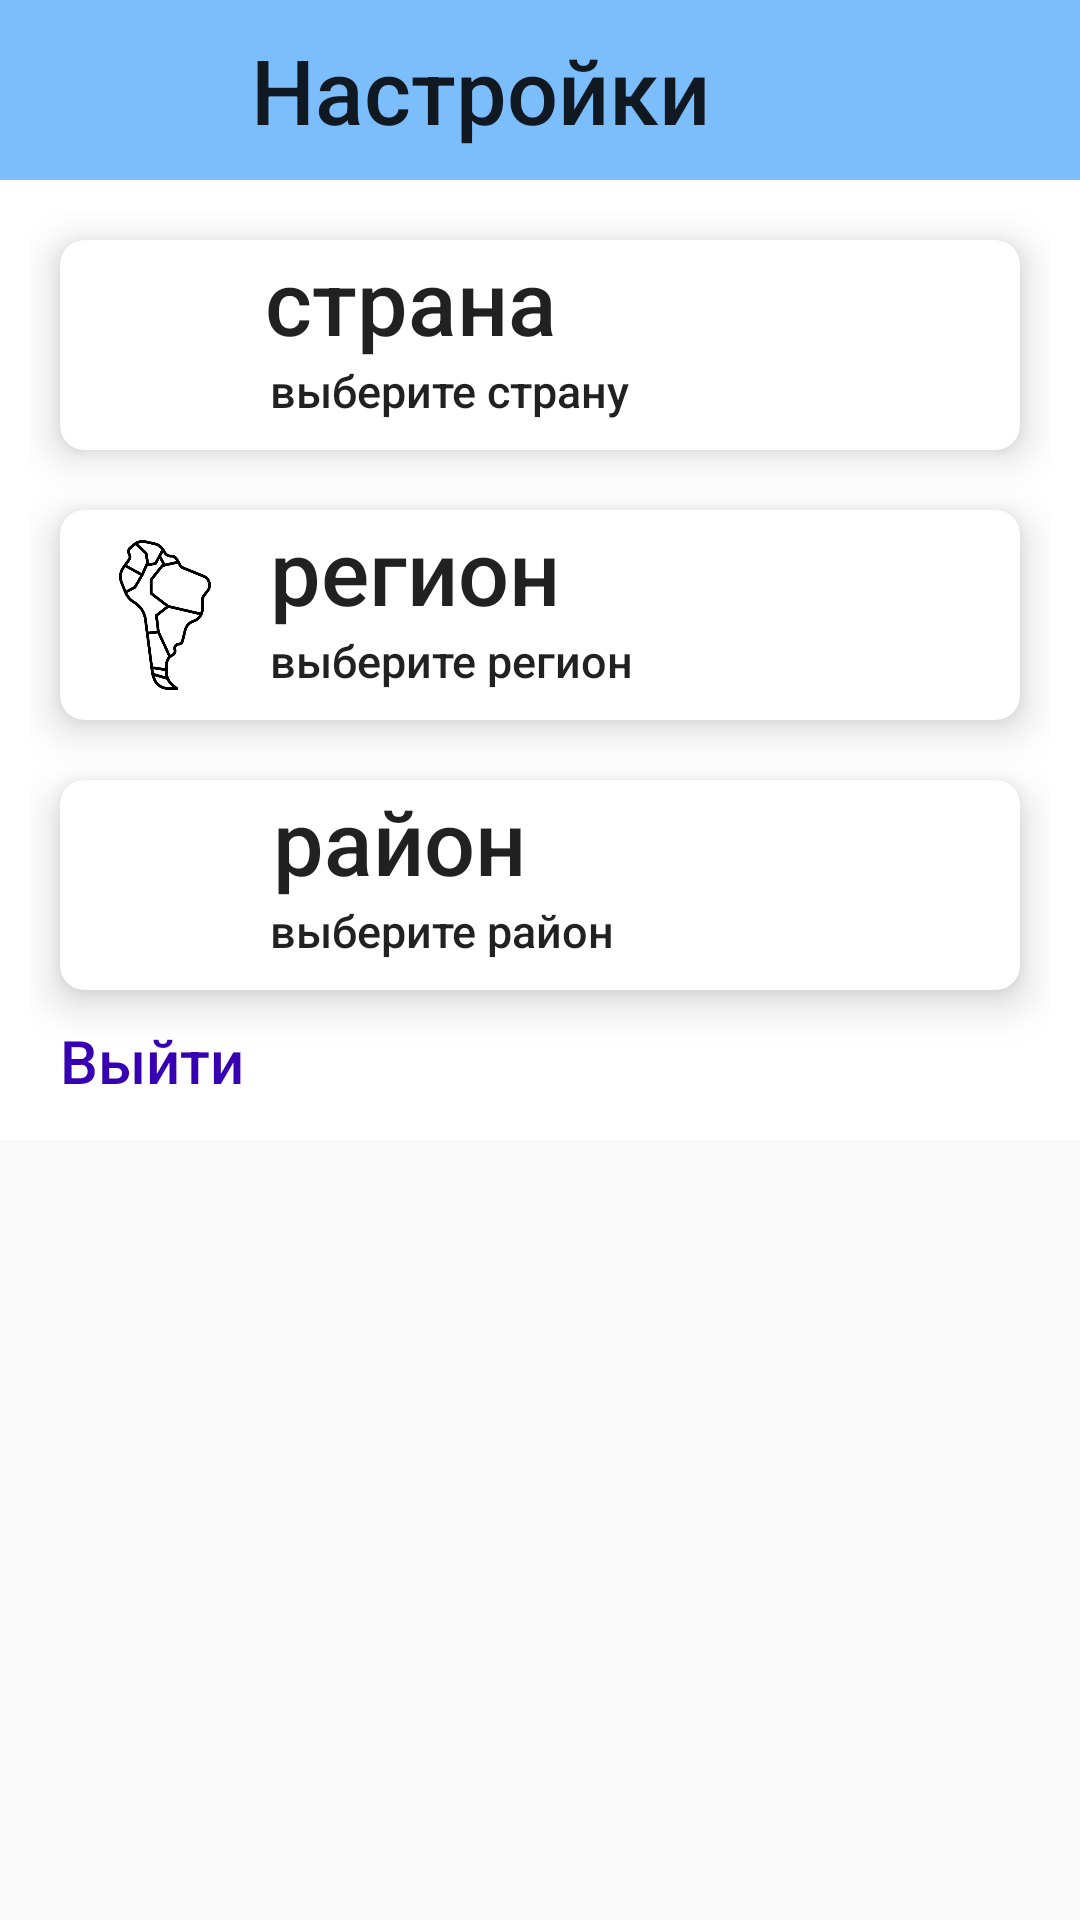

Screen size 1080 × 1920. Icon name, then its box in pixels as (x1, y1, x2, y2):
region: (119, 540, 211, 690)
